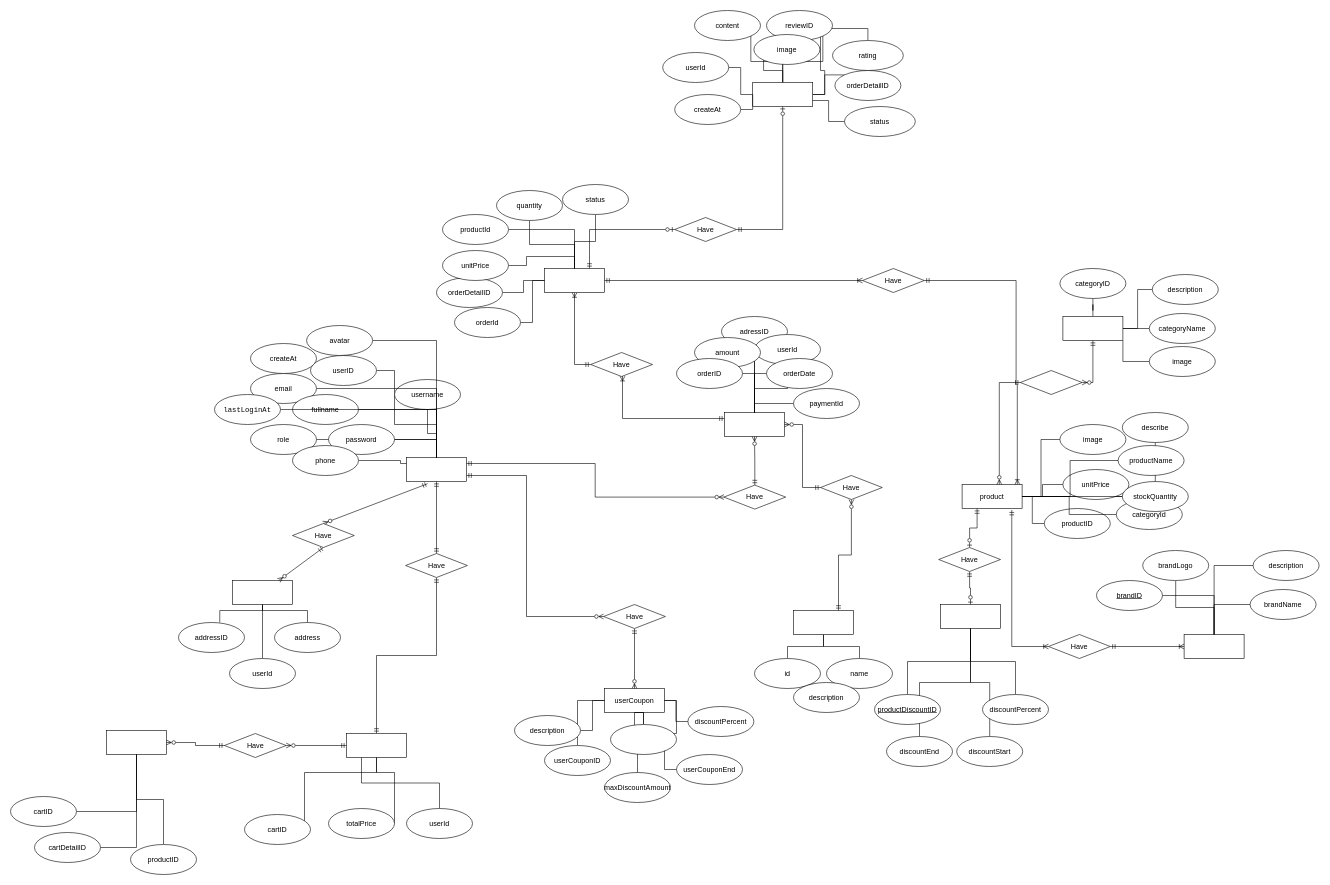
This 1330x885 diagram has some shape labels left out. The shapes that lost their labels are listed below. From the top down, each one's centre as x and y in pixels, then its label:
At [782,94]: "Reviews".
At [574,280]: "OrderDetails".
At [1092,328]: "Categories".
At [1051,382]: "Is".
At [754,424]: "order".
At [436,469]: "Users".
At [262,592]: "Addresses".
At [823,622]: "paymentMethod".
At [970,616]: "productDiscounts".
At [1214,646]: "brand".
At [136,742]: "cartDetails".
At [376,745]: "cart".
At [643,739]: "userCouponStart".
